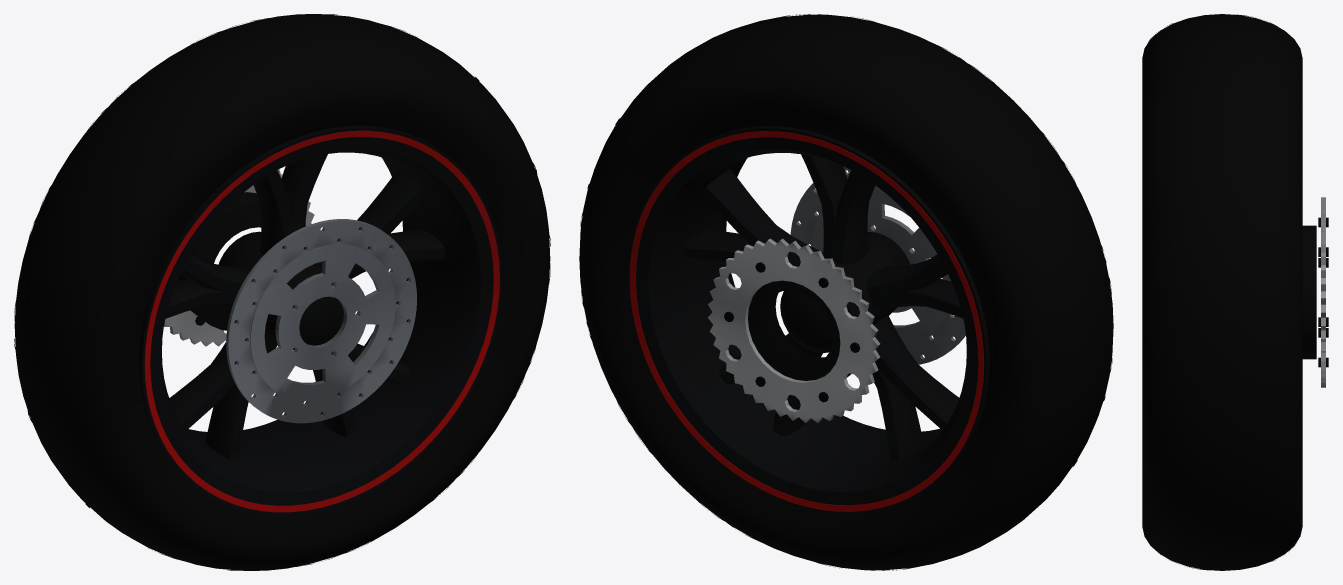
File: bike_duetto_wheelR.glb
3 renders of one model, left to right at view 1: azimuth 30°, elevation 25°; view 2: azimuth 150°, elevation 25°; view 3: azimuth 270°, elevation 25°, orthographic. The views are drawn at different scales.
Visible parts, largest first — view 1: bk_wheelR_tyre, bk_wheelR_rim, bk_wheelR_carrier0.09, bk_wheelR_disc0.09, bk_wheelR_stripe1, bk_wheelR_tread, bk_wheelR_hub, bk_wheelR_cush, bk_wheelR_sp3_-1, bk_wheelR_sp0_1, bk_wheelR_sp3_1, bk_wheelR_sp1_1 (+6 smaller); view 2: bk_wheelR_tyre, bk_wheelR_rim, bk_wheelR_sprocket, bk_wheelR_stripe-1, bk_wheelR_cush, bk_wheelR_tread, bk_wheelR_hub, bk_wheelR_sp3_-1, bk_wheelR_carrier0.09, bk_wheelR_sp0_1, bk_wheelR_disc0.09, bk_wheelR_sp1_1 (+6 smaller); view 3: bk_wheelR_tyre, bk_wheelR_tread, bk_wheelR_cush, bk_wheelR_sprocket.
Boxes of the visible parts, x1,y1,x2,y2 form: bk_wheelR_tyre: [14, 14, 550, 570]; bk_wheelR_rim: [139, 125, 502, 515]; bk_wheelR_carrier0.09: [250, 244, 395, 399]; bk_wheelR_disc0.09: [226, 219, 416, 423]; bk_wheelR_stripe1: [144, 130, 499, 512]; bk_wheelR_tread: [14, 14, 550, 570]; bk_wheelR_hub: [218, 231, 343, 350]; bk_wheelR_cush: [177, 192, 305, 330]; bk_wheelR_sp3_-1: [169, 334, 274, 430]; bk_wheelR_sp0_1: [318, 168, 427, 267]; bk_wheelR_sp3_1: [205, 337, 277, 461]; bk_wheelR_sp1_1: [253, 170, 294, 254]; bk_wheelR_tyre: [579, 14, 1113, 570]; bk_wheelR_rim: [627, 126, 989, 514]; bk_wheelR_sprocket: [708, 238, 880, 422]; bk_wheelR_stripe-1: [629, 131, 984, 511]; bk_wheelR_cush: [748, 253, 863, 380]; bk_wheelR_tread: [580, 14, 1112, 570]; bk_wheelR_hub: [780, 232, 909, 352]; bk_wheelR_sp3_-1: [874, 315, 959, 430]; bk_wheelR_carrier0.09: [811, 187, 950, 342]; bk_wheelR_sp0_1: [702, 169, 823, 254]; bk_wheelR_disc0.09: [790, 166, 965, 364]; bk_wheelR_sp1_1: [829, 170, 875, 264]; bk_wheelR_tyre: [1142, 14, 1302, 570]; bk_wheelR_tread: [1146, 14, 1298, 570]; bk_wheelR_cush: [1302, 225, 1316, 359]; bk_wheelR_sprocket: [1321, 197, 1325, 387].
Size of the model in its own units: 0.65 by 0.65 by 0.2176.
